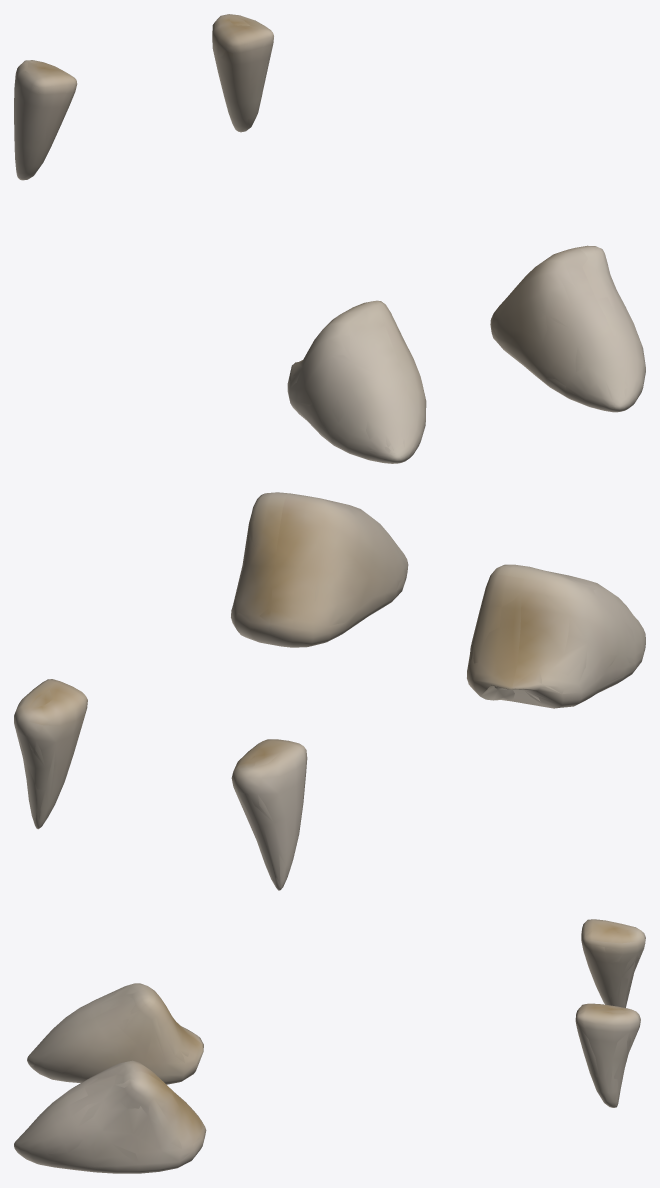
Rendered from FR 3rd Phalanx.fbx.
The picture shows the model from 3 angles, top to bottom: view 1: azimuth 30°, elevation 25°; view 2: azimuth 150°, elevation 25°; view 3: azimuth 270°, elevation 25°; orthographic projection. The views are drawn at different scales.
Parts seen in each view (by area): view 1: FR 3rd Phalanx, FR 3rd Phalanx low; view 2: FR 3rd Phalanx, FR 3rd Phalanx low; view 3: FR 3rd Phalanx, FR 3rd Phalanx low.
Part boxes in pixels (x1,y1,x2,y2): FR 3rd Phalanx: [14, 14, 645, 463]; FR 3rd Phalanx low: [16, 15, 645, 463]; FR 3rd Phalanx: [14, 492, 645, 890]; FR 3rd Phalanx low: [14, 492, 645, 887]; FR 3rd Phalanx: [14, 919, 645, 1173]; FR 3rd Phalanx low: [17, 919, 644, 1172].
Size of the model in its own units: 2.73 by 1.33 by 5.49.
